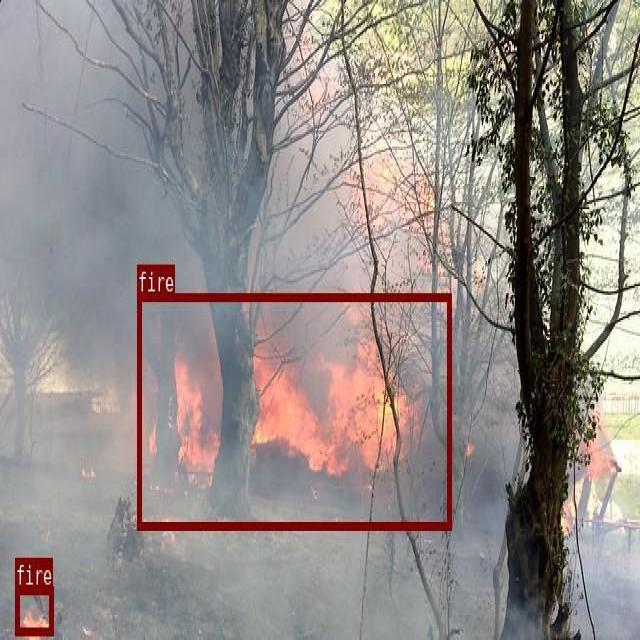fire: (137, 293, 451, 528), (15, 585, 52, 634)
